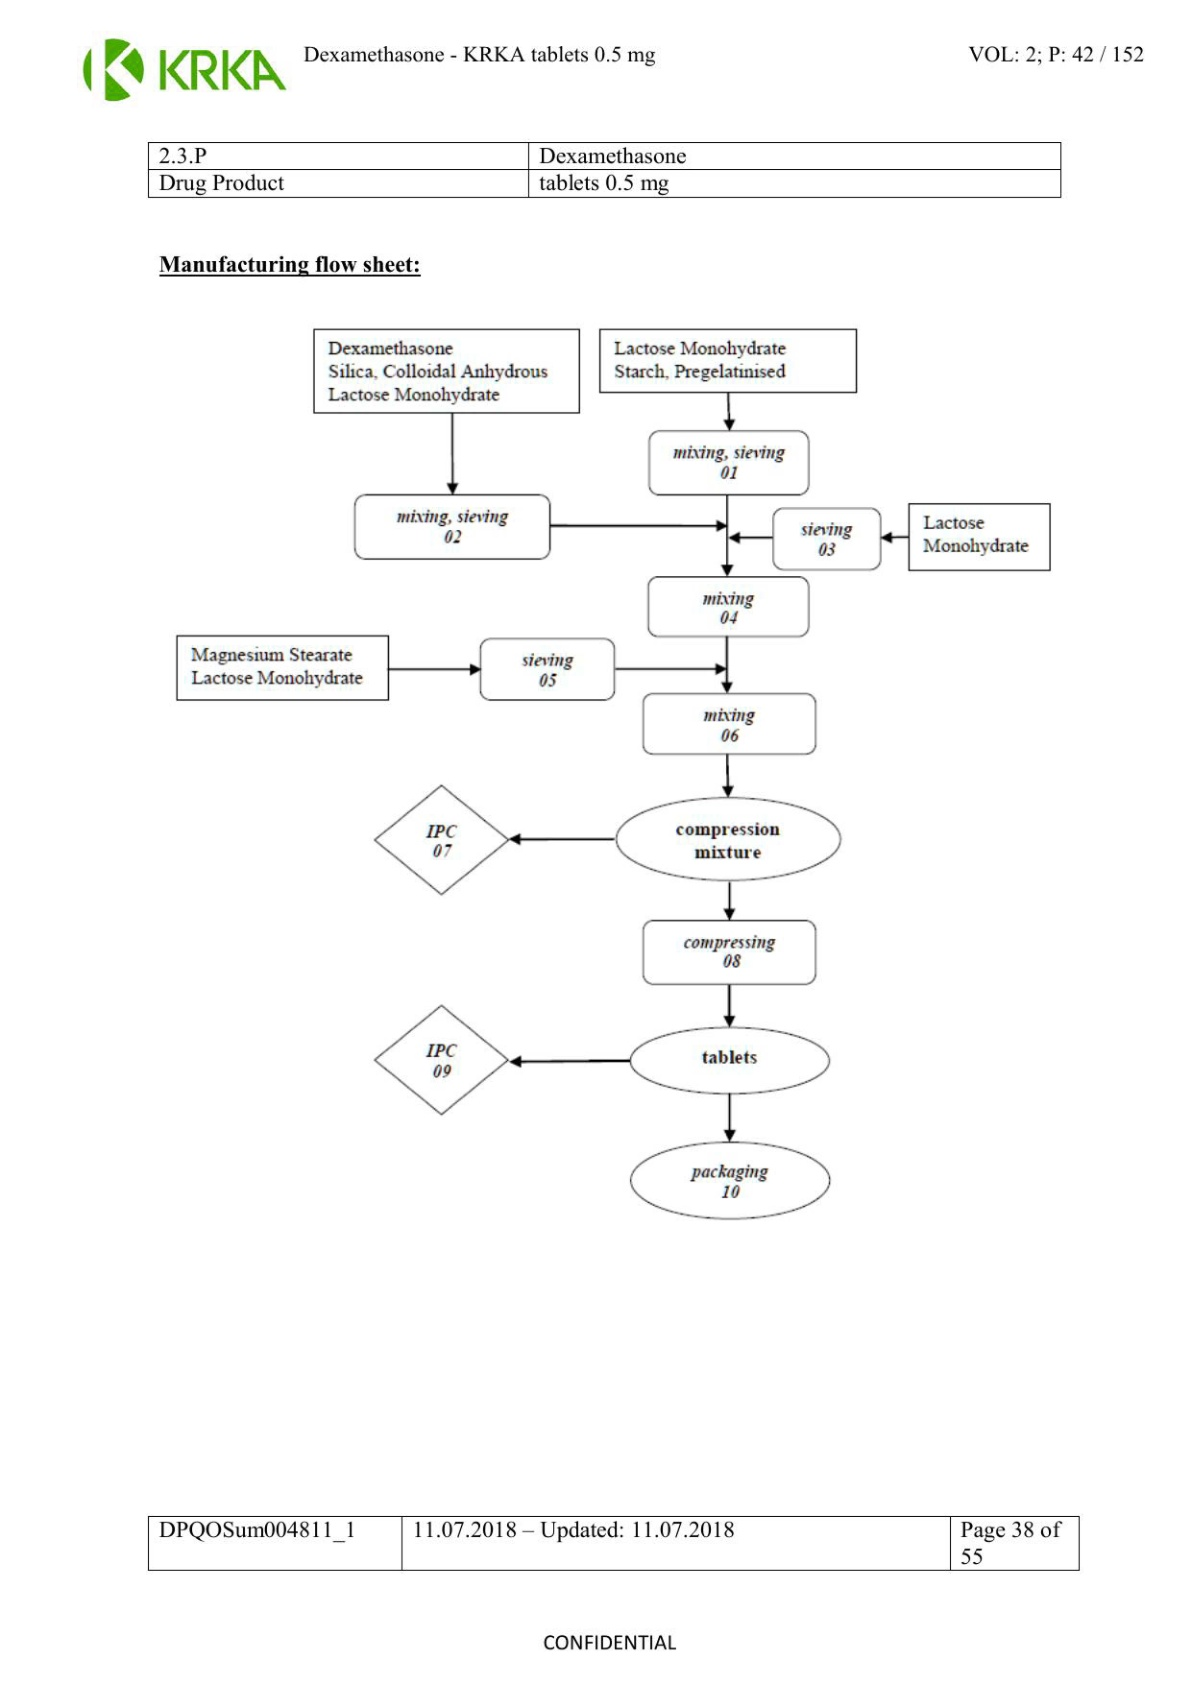full_lined: (146, 141, 1062, 199), (146, 1515, 1081, 1571)
